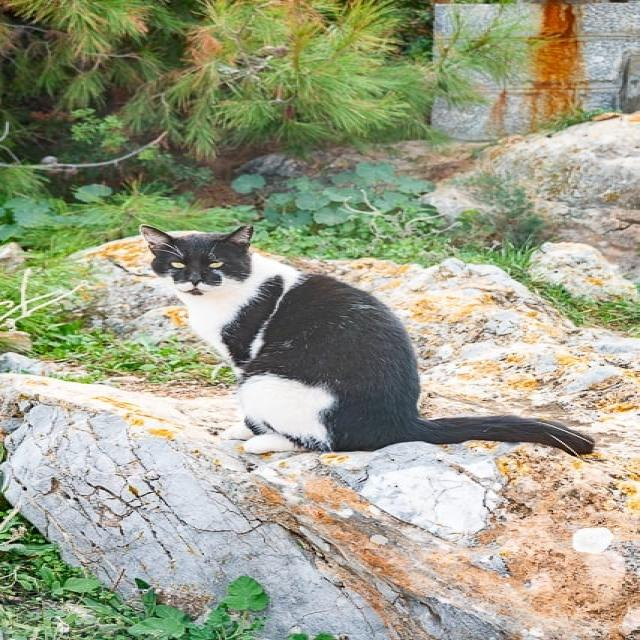cat: (141, 225, 594, 454)
